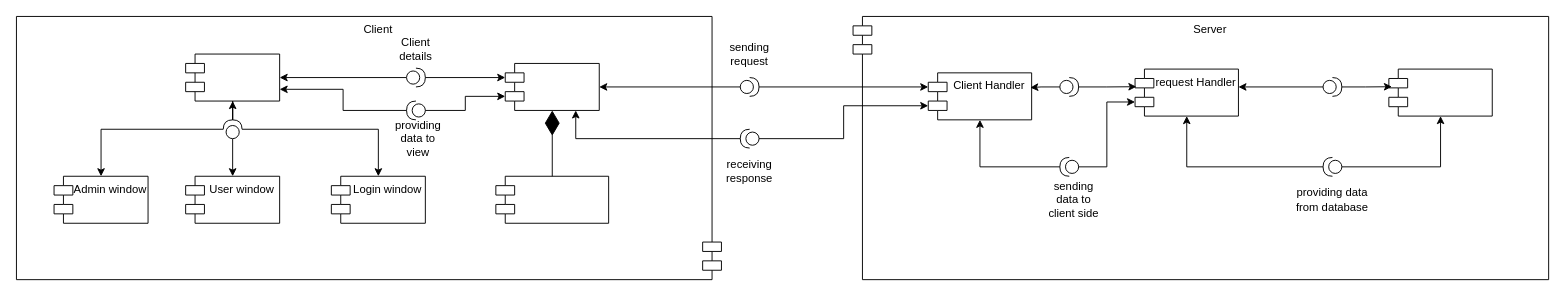
Some shapes in this 1565 by 297 pixel diagram are drawn without their labels. Each missing label, with the centre of its shape:
Control: (551,86)
Database Handler: (1440,92)
Socket Handler: (552,199)
View: (232,77)
